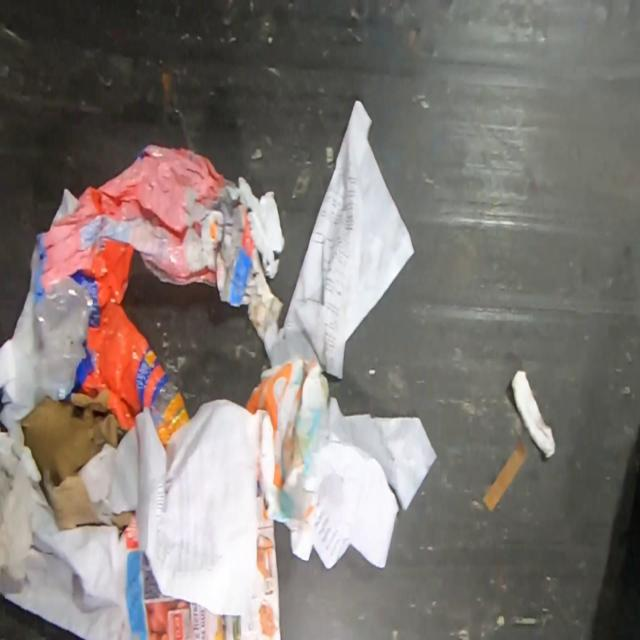cardboard: (18, 389, 138, 542)
soft_plastic: (30, 143, 226, 450)
